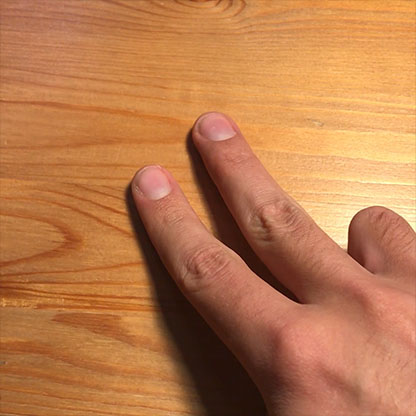fingertip: (125, 160, 181, 214), (191, 105, 239, 150)
